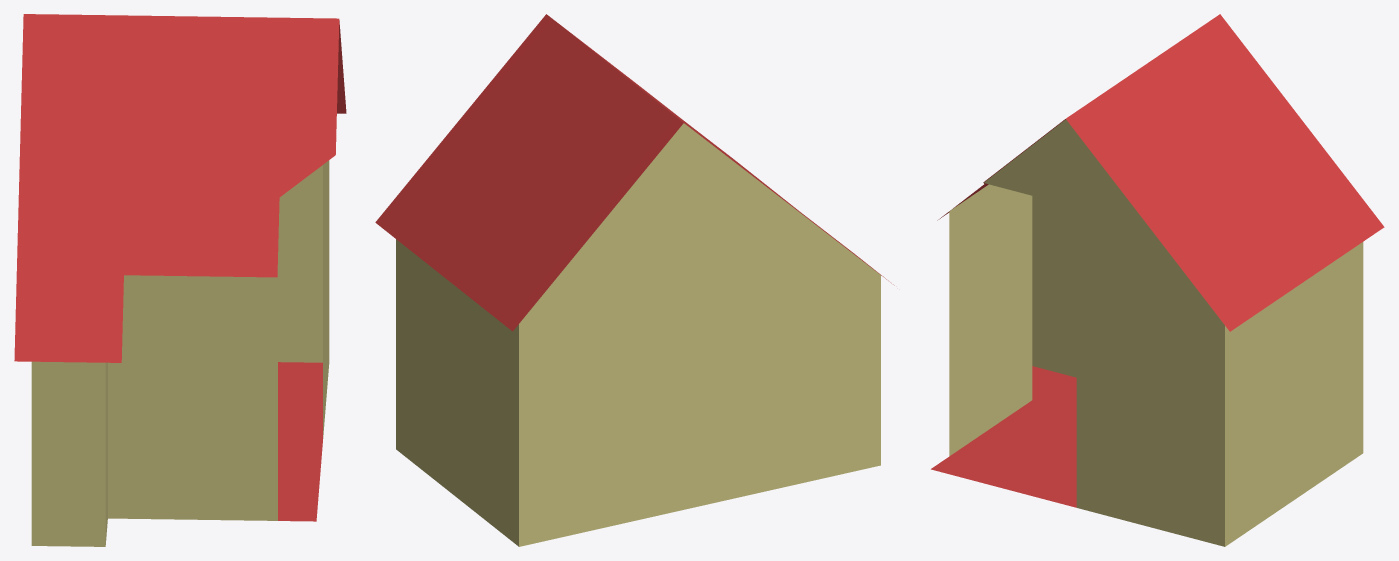
3 renders of one model, left to right at view 1: azimuth 30°, elevation 25°; view 2: azimuth 150°, elevation 25°; view 3: azimuth 270°, elevation 25°, orthographic. The views are drawn at different scales.
Size of the model in its own units: 15.6 by 14.74 by 14.1.
